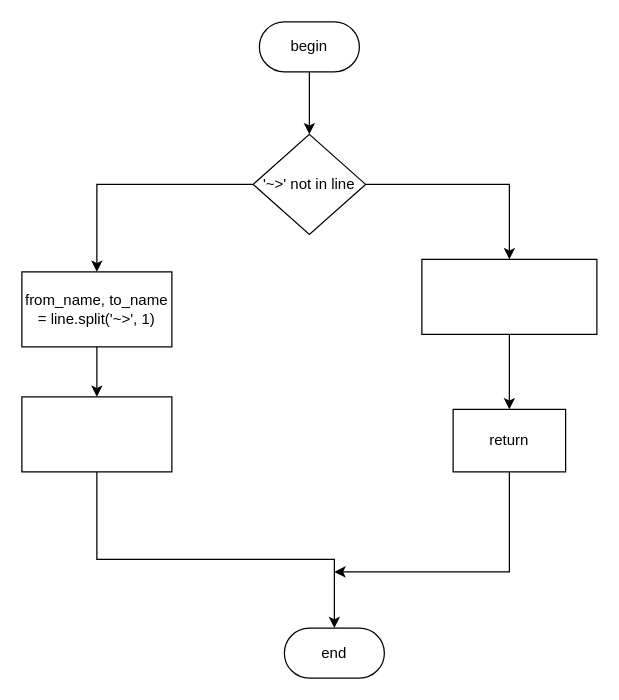
This 619x700 diagram has some shape labels left out. Each missing label, with the centre of its shape:
print(f"Ошибка в правиле: отсутствует '~>' — строка '{line}' пропущена."): [509,296]
self.rules. append((from_name. strip(), to_name.strip())): [96,434]
